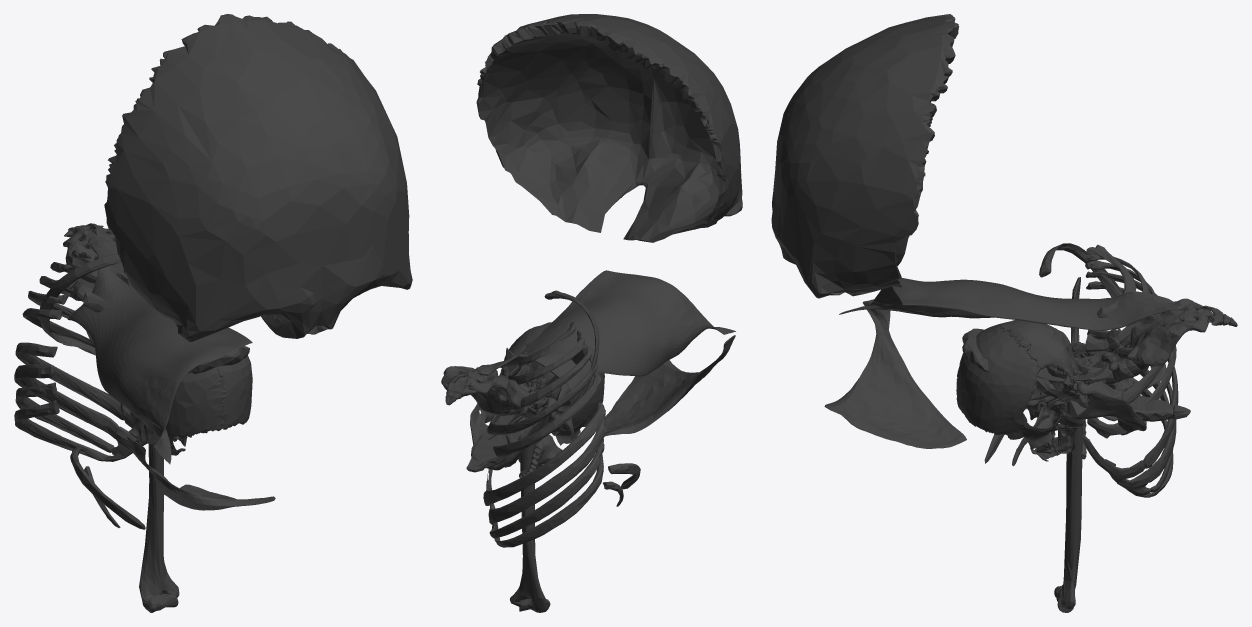
The model's file is sharedassets53.glb.
The picture shows the model from 3 angles, left to right: view 1: azimuth 30°, elevation 25°; view 2: azimuth 150°, elevation 25°; view 3: azimuth 270°, elevation 25°; orthographic projection. The views are drawn at different scales.
Visible parts, largest first — view 1: 0133_Frontal__001097, 0000_Latissimus dorsi, R_male_1000235, 0022_Humerus _arm, brachium_, R__000807, 0121_Parietal, R__001095, 0010_Eighth rib _08_, R__002280, 0003_UNWRAPPED Pectoralis major, sternocostal, 0019_Seventh rib _07_, R__002279, 0122_Parietal, L__001094, 0012_Tenth rib _10_, R__002282, 0011_Ninth rib _09_, R__002281, 0018_Sixth rib _06_, R__002278, 0185_S01-05 Sacrum_male_001242 (+4 smaller); view 2: 0133_Frontal__001097, 0000_Latissimus dorsi, R_male_1000235, 0003_UNWRAPPED Pectoralis major, sternocostal, 0185_S01-05 Sacrum_male_001242, 0022_Humerus _arm, brachium_, R__000807, 0010_Eighth rib _08_, R__002280, 0019_Seventh rib _07_, R__002279, 0011_Ninth rib _09_, R__002281, 0012_Tenth rib _10_, R__002282, 0017_Fifth rib _05_, R__002277, 0016_Fourth rib _04_, R__002276, 0174_Body of sternum__001163 (+11 smaller); view 3: 0133_Frontal__001097, 0000_Latissimus dorsi, R_male_1000235, 0003_UNWRAPPED Pectoralis major, sternocostal, 0122_Parietal, L__001094, 0185_S01-05 Sacrum_male_001242, 0022_Humerus _arm, brachium_, R__000807, 0123_Occipital__001132, 0117_Mandible_body_001091, 0171_Sphenoid__001143, 0019_Seventh rib _07_, R__002279, 0174_Body of sternum__001163, 0010_Eighth rib _08_, R__002280 (+8 smaller).
Boxes of the visible parts, <box> form: 0133_Frontal__001097: <box>104,14,412,341</box>; 0000_Latissimus dorsi, R_male_1000235: <box>67,236,252,464</box>; 0022_Humerus _arm, brachium_, R__000807: <box>139,444,179,612</box>; 0121_Parietal, R__001095: <box>146,367,224,438</box>; 0010_Eighth rib _08_, R__002280: <box>14,364,146,452</box>; 0003_UNWRAPPED Pectoralis major, sternocostal: <box>127,437,275,510</box>; 0019_Seventh rib _07_, R__002279: <box>15,342,133,427</box>; 0122_Parietal, L__001094: <box>216,355,252,429</box>; 0012_Tenth rib _10_, R__002282: <box>14,400,124,461</box>; 0011_Ninth rib _09_, R__002281: <box>15,382,132,458</box>; 0018_Sixth rib _06_, R__002278: <box>40,253,120,355</box>; 0185_S01-05 Sacrum_male_001242: <box>63,223,117,301</box>; 0133_Frontal__001097: <box>476,14,742,242</box>; 0000_Latissimus dorsi, R_male_1000235: <box>475,270,735,389</box>; 0003_UNWRAPPED Pectoralis major, sternocostal: <box>604,335,735,436</box>; 0185_S01-05 Sacrum_male_001242: <box>441,366,530,413</box>; 0022_Humerus _arm, brachium_, R__000807: <box>510,443,550,612</box>; 0010_Eighth rib _08_, R__002280: <box>488,419,606,525</box>; 0019_Seventh rib _07_, R__002279: <box>483,402,605,505</box>; 0011_Ninth rib _09_, R__002281: <box>489,439,604,538</box>; 0012_Tenth rib _10_, R__002282: <box>494,455,603,547</box>; 0017_Fifth rib _05_, R__002277: <box>493,371,601,456</box>; 0016_Fourth rib _04_, R__002276: <box>487,357,598,434</box>; 0174_Body of sternum__001163: <box>471,415,534,468</box>; 0133_Frontal__001097: <box>771,14,959,298</box>; 0000_Latissimus dorsi, R_male_1000235: <box>839,278,1183,330</box>; 0003_UNWRAPPED Pectoralis major, sternocostal: <box>824,299,966,448</box>; 0122_Parietal, L__001094: <box>956,327,1040,439</box>; 0185_S01-05 Sacrum_male_001242: <box>1118,298,1213,371</box>; 0022_Humerus _arm, brachium_, R__000807: <box>1054,402,1082,612</box>; 0123_Occipital__001132: <box>1000,320,1074,389</box>; 0117_Mandible_body_001091: <box>1076,378,1146,435</box>; 0171_Sphenoid__001143: <box>1021,391,1085,449</box>; 0019_Seventh rib _07_, R__002279: <box>1081,356,1178,482</box>; 0174_Body of sternum__001163: <box>1035,377,1173,421</box>; 0010_Eighth rib _08_, R__002280: <box>1087,330,1176,491</box>.
Bounding box in the file's own units: 0.175 × 0.3779 × 0.2727.
1 material, 1 textured.
